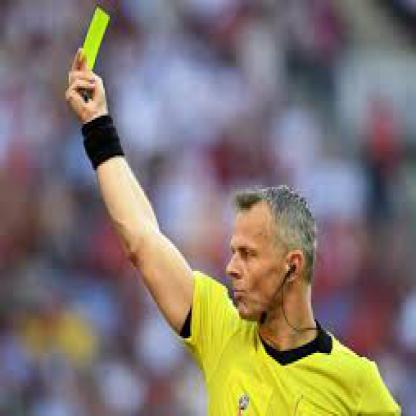foul: (55, 1, 140, 209)
